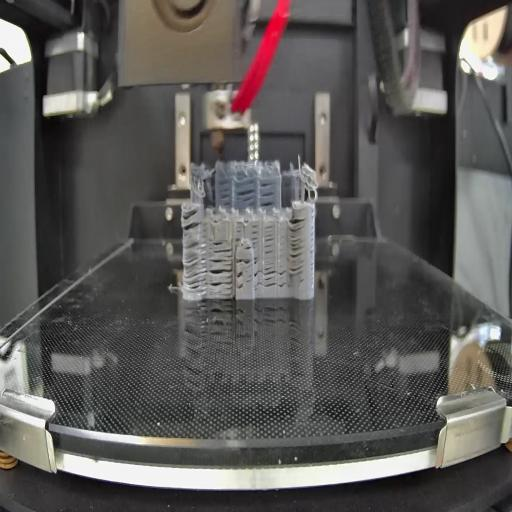cracks: (183, 243, 208, 293), (288, 216, 306, 277), (210, 257, 232, 295), (264, 260, 290, 290), (236, 179, 257, 207), (182, 205, 204, 231), (260, 180, 276, 206), (220, 177, 233, 209), (264, 224, 276, 252), (212, 240, 234, 254), (254, 256, 261, 293), (234, 256, 254, 267), (234, 220, 243, 242), (251, 220, 260, 242), (237, 270, 245, 292), (244, 242, 253, 254)
